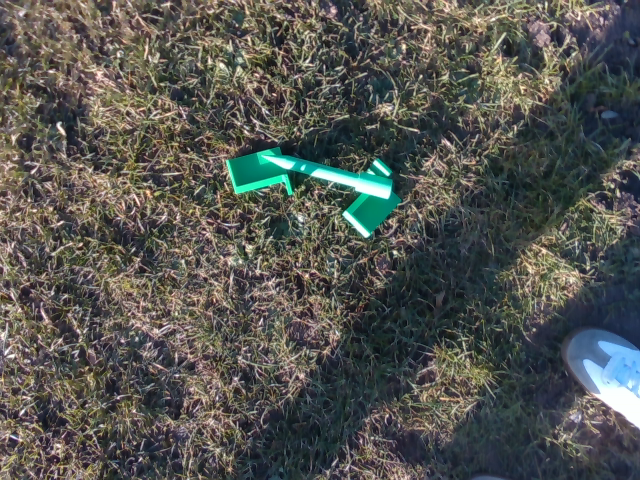Probe: (260, 147, 395, 201)
